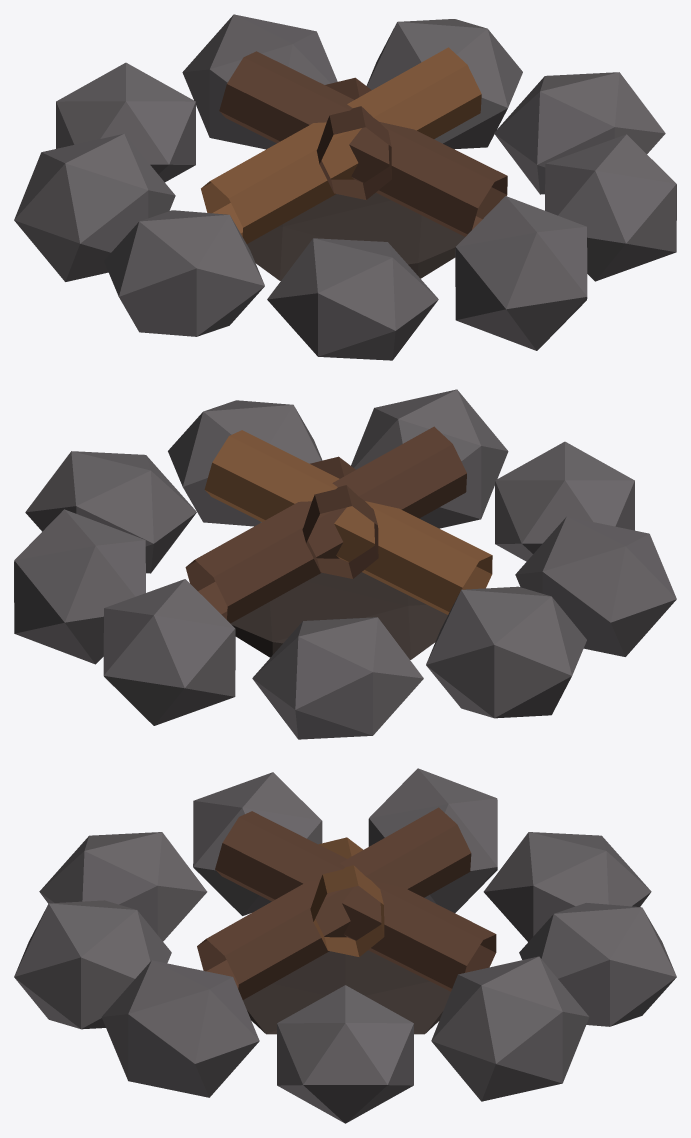
The picture shows the model from 3 angles, top to bottom: view 1: azimuth 30°, elevation 25°; view 2: azimuth 150°, elevation 25°; view 3: azimuth 270°, elevation 25°; orthographic projection. The views are drawn at different scales.
Visible parts, largest first — view 1: C11_平铺炭木火塘; view 2: C11_平铺炭木火塘; view 3: C11_平铺炭木火塘.
Part boxes in pixels (x1,y1,x2,y2): C11_平铺炭木火塘: [14, 14, 676, 360]; C11_平铺炭木火塘: [14, 389, 676, 739]; C11_平铺炭木火塘: [14, 768, 676, 1123].
Bounding box in the file's own units: 1.3 × 0.3672 × 1.32.
